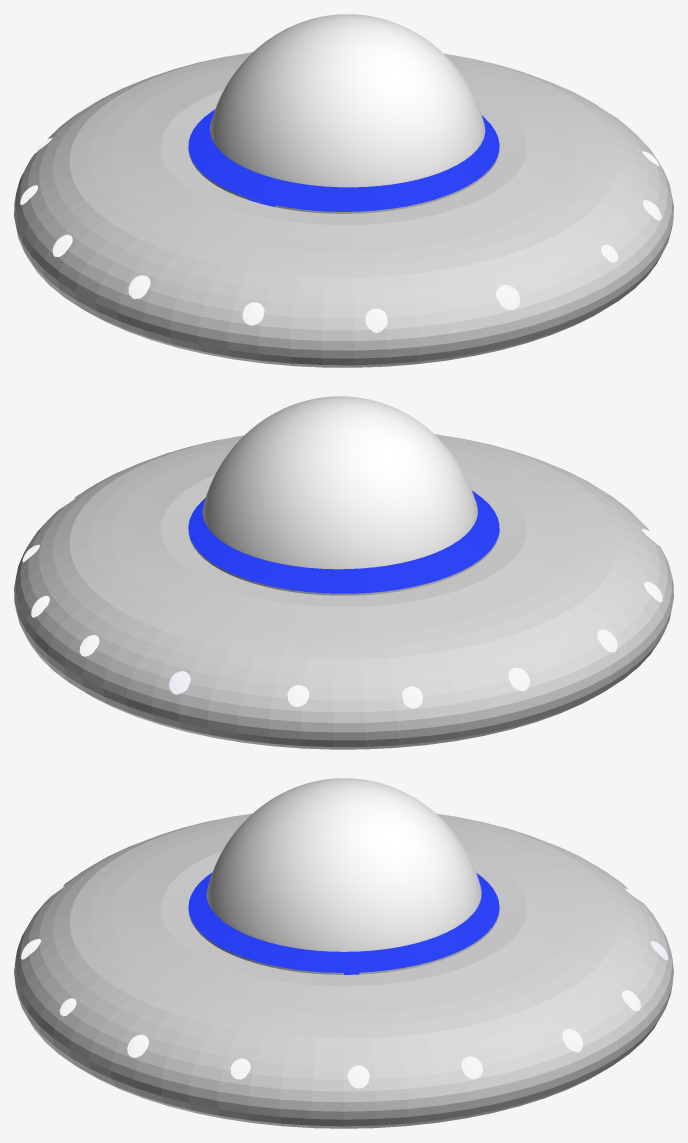
File: Ufo2.glb
3 views of the same model, one above another, from view 1: azimuth 30°, elevation 25°; view 2: azimuth 150°, elevation 25°; view 3: azimuth 270°, elevation 25° (orthographic).
Visible parts, largest first — view 1: Sphere, Sphere.001; view 2: Sphere, Sphere.001; view 3: Sphere, Sphere.001.
Boxes of the visible parts, bbox=[...] form: Sphere: bbox=[14, 52, 673, 367]; Sphere.001: bbox=[210, 14, 485, 187]; Sphere: bbox=[14, 434, 673, 749]; Sphere.001: bbox=[202, 396, 477, 569]; Sphere: bbox=[14, 813, 673, 1128]; Sphere.001: bbox=[206, 778, 481, 951].
Size of the model in its own units: 6.68 by 2.31 by 6.68.
